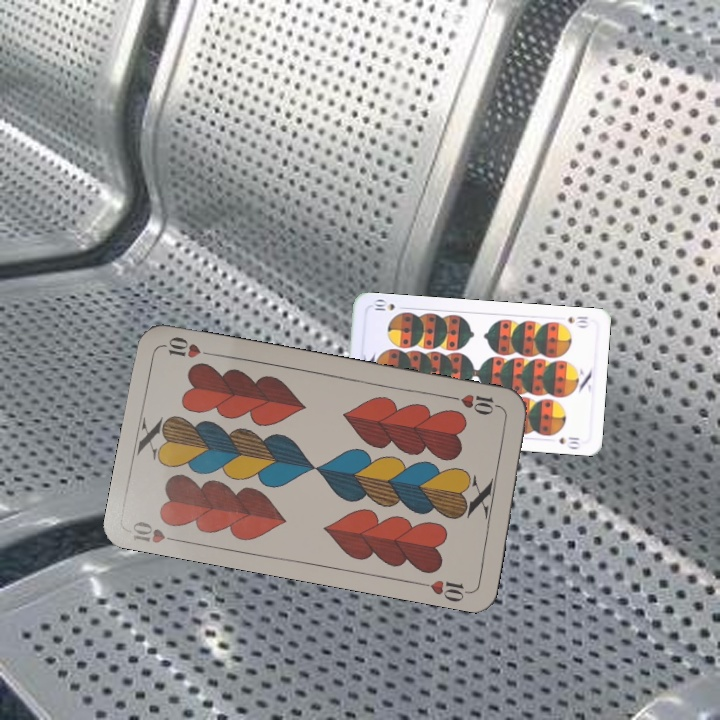H10: (128, 517, 185, 546), (446, 390, 505, 418)
S10: (564, 312, 592, 330)
